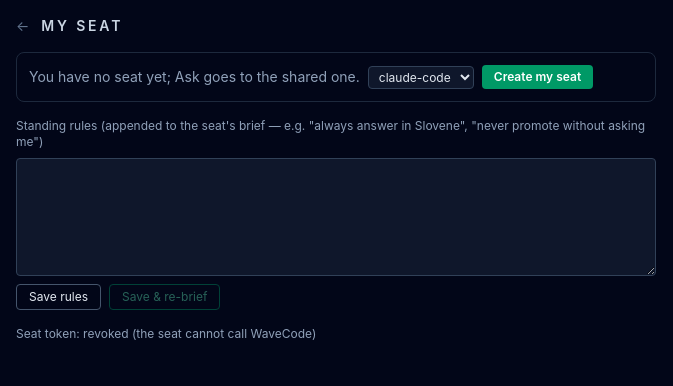
Test: Settings → My seat (spec §5d) › no seat: create it with a runtime
Check: the heading "My seat" is shown, box [41, 16, 123, 36]
Check: the text "You have no seat yet; Ask goes to the shared one." is shown, box [29, 67, 360, 87]
Select "codex" in the dropdown named "Runtime" at (421,77), box [368, 66, 474, 88]
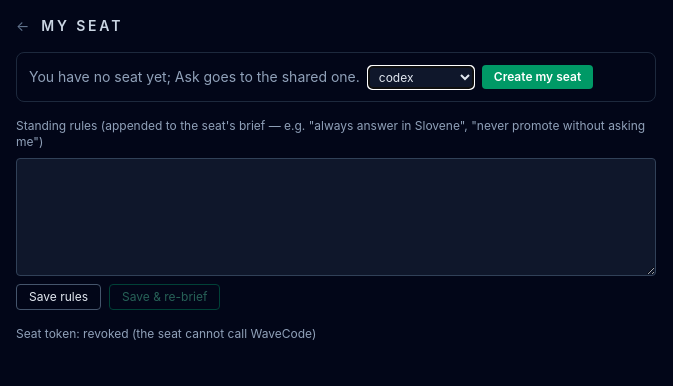
Click the button "Create my seat" at (537,77), box [482, 65, 593, 89]
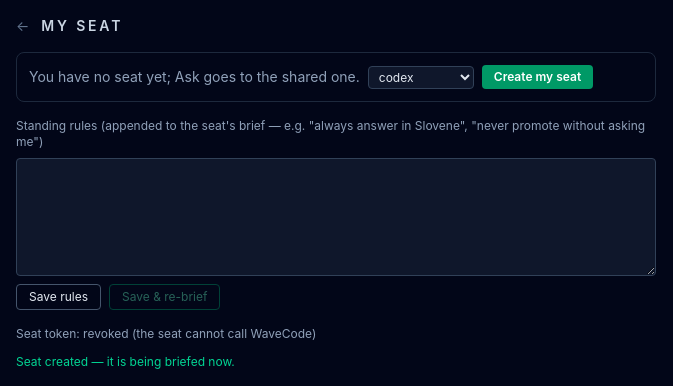
Check: the message shows "Seat created", box [16, 354, 235, 369]
